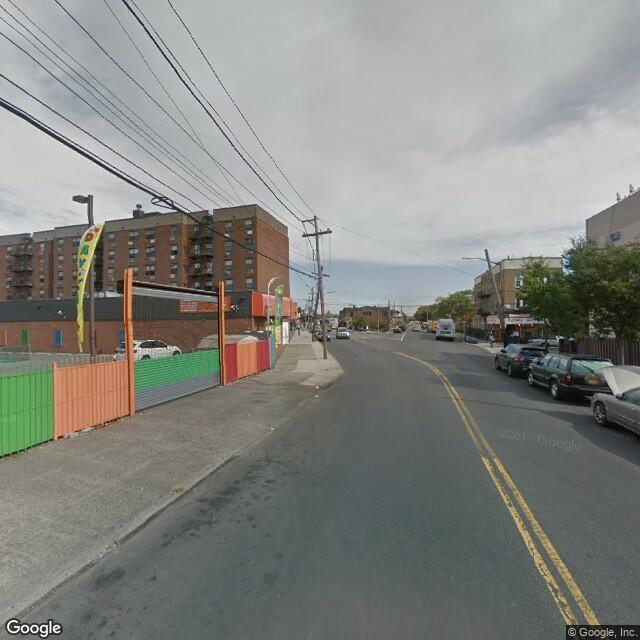litter: (312, 390, 338, 402), (308, 383, 331, 388)
